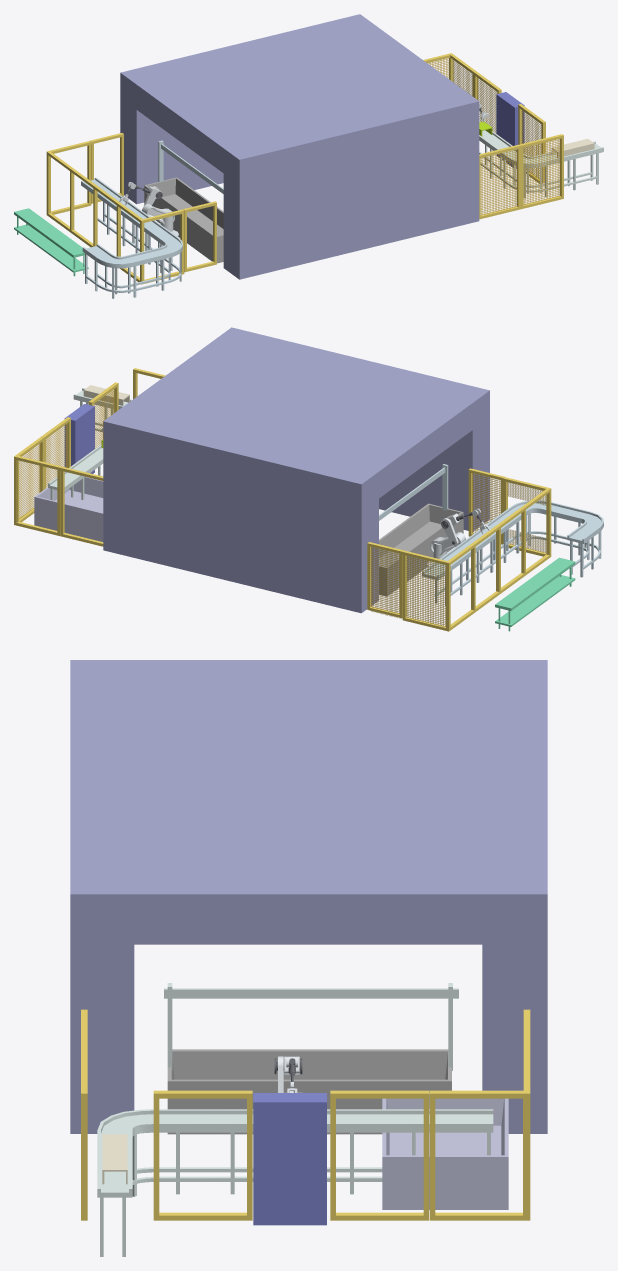
File: cleanArea.glb
3 views of the same model, one above another, from view 1: azimuth 30°, elevation 25°; view 2: azimuth 150°, elevation 25°; view 3: azimuth 270°, elevation 25° (orthographic). The views are drawn at different scales.
Visible parts, largest first — view 1: 立方体.1 (×2), 平面.4 (×5), 立方体.2 (×3), 立方体, 立方体.5 (×3), 立方体.3, 立方体.6; view 2: 立方体.1 (×2), 立方体 (×2), 立方体.2 (×3), 平面.1 (×2), 平面.4 (×3), 平面 (×2), 立方体.5 (×3), 立方体.3, 立方体.6, 平面.2; view 3: 立方体.1, 立方体.2 (×5), 立方体 (×4), 立方体.3 (×4), 立方体.5 (×3), 立方体.6.
Boxes of the visible parts, x1,y1,x2,y2 form: 立方体.1 (×2): (14, 14, 479, 279); 平面.4 (×5): (453, 60, 560, 215); 立方体.2 (×3): (14, 121, 603, 272); 立方体: (81, 177, 182, 268); 立方体.5 (×3): (97, 139, 594, 288); 立方体.3: (496, 92, 524, 168); 立方体.6: (86, 213, 181, 292); 立方体.1 (×2): (103, 327, 575, 613); 立方体 (×2): (34, 477, 603, 580); 立方体.2 (×3): (48, 388, 575, 626); 平面.1 (×2): (371, 473, 501, 618); 平面.4 (×3): (19, 388, 114, 518); 平面 (×2): (406, 482, 546, 626); 立方体.5 (×3): (83, 385, 588, 595); 立方体.3: (64, 404, 94, 473); 立方体.6: (434, 531, 600, 595); 平面.2: (508, 529, 546, 552); 立方体.1: (70, 660, 547, 1133); 立方体.2 (×5): (81, 1049, 493, 1220); 立方体 (×4): (153, 1090, 528, 1209); 立方体.3 (×4): (154, 1093, 528, 1225); 立方体.5 (×3): (102, 988, 458, 1184); 立方体.6: (137, 1167, 382, 1173).
Bounding box in the file's own units: 550 × 130 × 230.
Materials: 13 (1 with a texture image).
